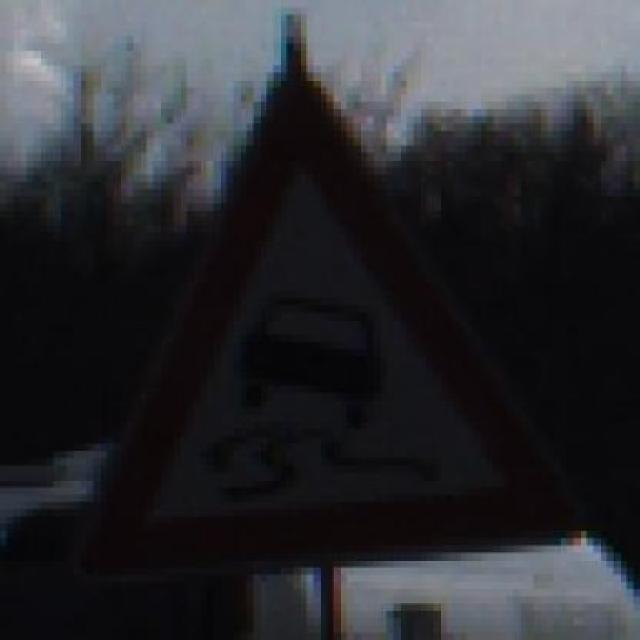Slippery Road Ahead: (66, 29, 600, 582)
